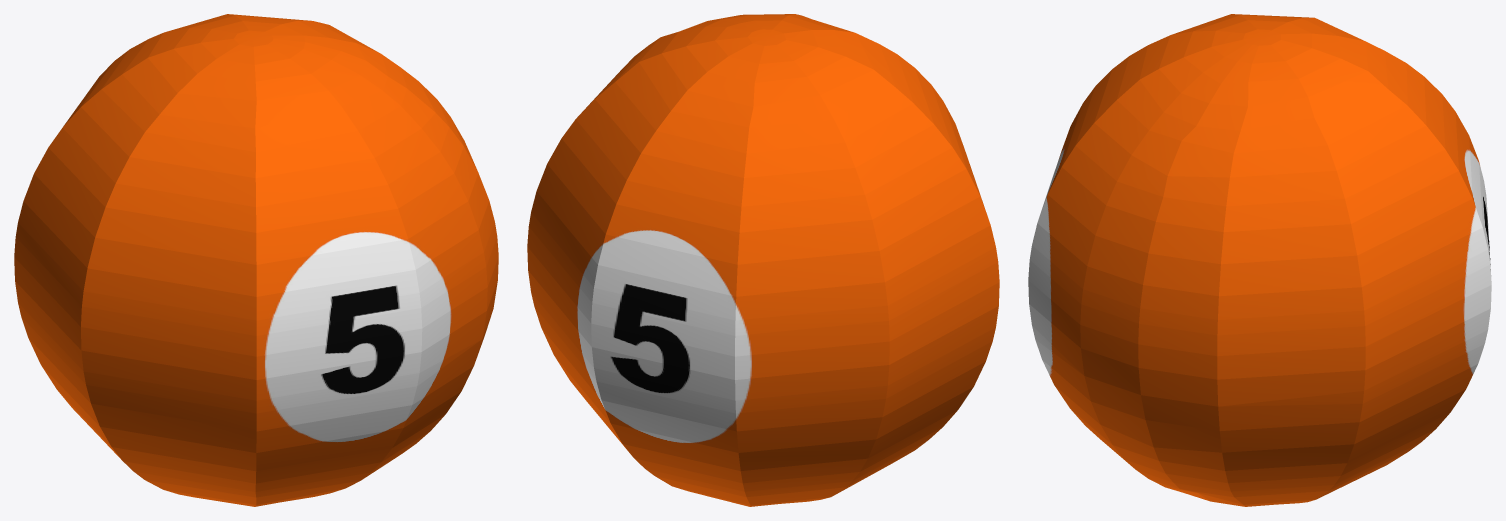
Rendered from 5Ball.fbx.
3 renders of one model, left to right at view 1: azimuth 30°, elevation 25°; view 2: azimuth 150°, elevation 25°; view 3: azimuth 270°, elevation 25°, orthographic.
Parts seen in each view (by area): view 1: Eight_Ball_eight_ball; view 2: Eight_Ball_eight_ball; view 3: Eight_Ball_eight_ball.
Boxes of the visible parts, left/top/right/bottom form: Eight_Ball_eight_ball: left=14, top=14, right=498, bottom=506; Eight_Ball_eight_ball: left=527, top=14, right=999, bottom=506; Eight_Ball_eight_ball: left=1028, top=14, right=1491, bottom=506.
Bounding box in the file's own units: 0.3153 × 0.3281 × 0.3081.
